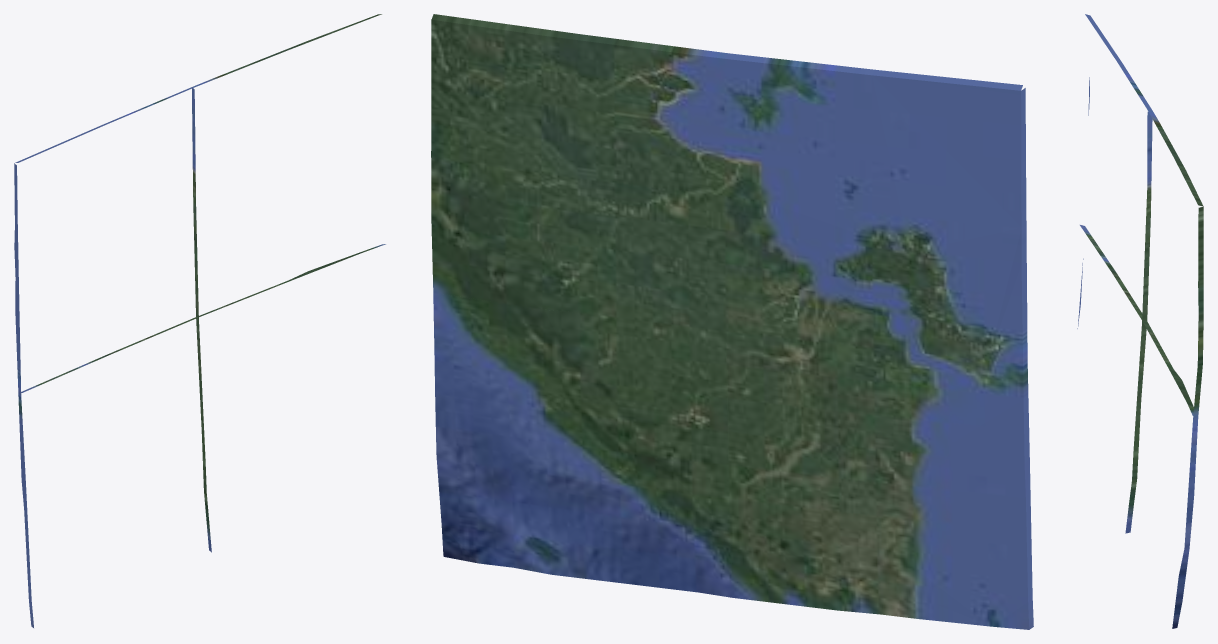
3 renders of one model, left to right at view 1: azimuth 30°, elevation 25°; view 2: azimuth 150°, elevation 25°; view 3: azimuth 270°, elevation 25°, orthographic. The views are drawn at different scales.
Size of the model in its own units: 620003 by 628189 by 190511.
Materials: 1 (1 with a texture image).
